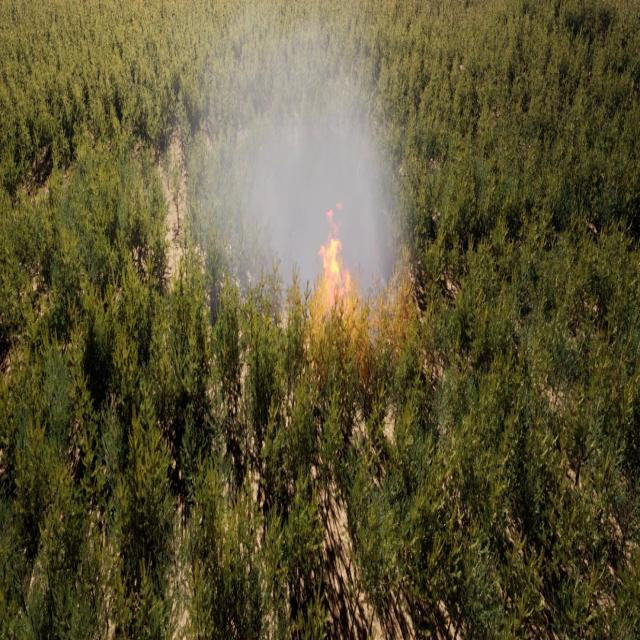fire: (309, 198, 373, 330)
smoke: (182, 14, 404, 327)
